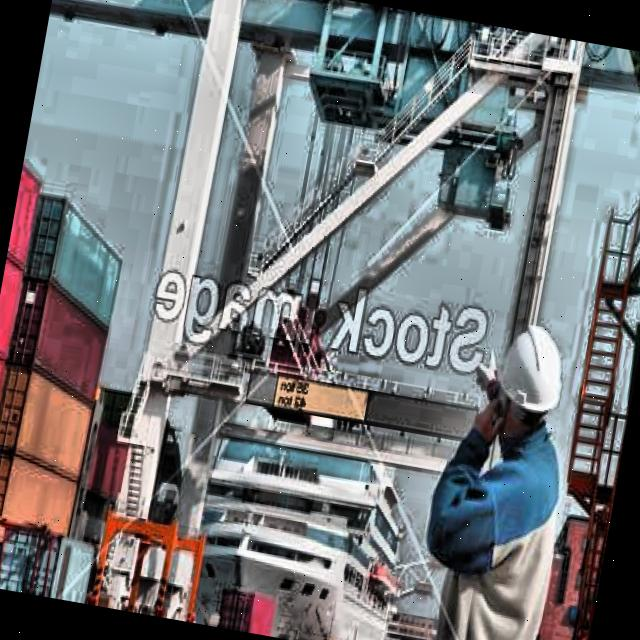helmet: (480, 316, 578, 452)
